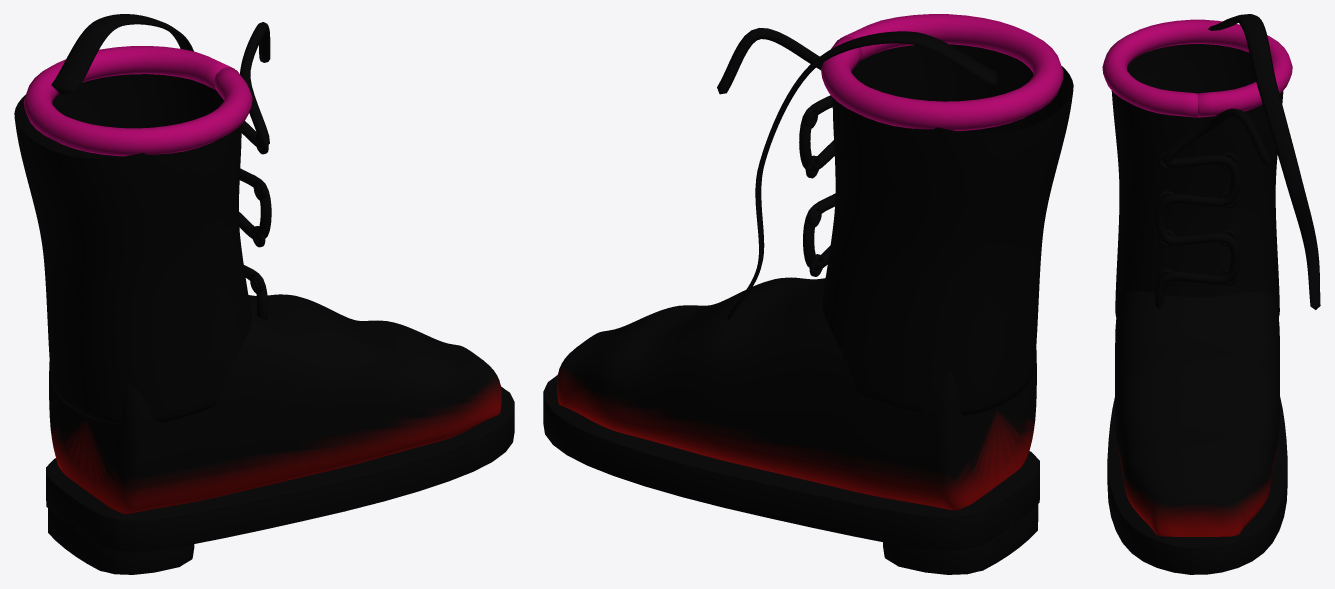
The model's file is boot.glb.
3 renders of one model, left to right at view 1: azimuth 30°, elevation 25°; view 2: azimuth 150°, elevation 25°; view 3: azimuth 270°, elevation 25°, orthographic. The views are drawn at different scales.
Visible parts, largest first — view 1: Boot, BootTrim; view 2: Boot, BootTrim; view 3: Boot, BootTrim.
Boxes of the visible parts, x1,y1,x2,y2 form: Boot: (14, 46, 514, 574); BootTrim: (51, 14, 271, 320); Boot: (543, 14, 1073, 574); BootTrim: (717, 28, 1000, 319); Boot: (1102, 19, 1292, 574); BootTrim: (1154, 14, 1320, 309).
Size of the model in its own units: 1.08 by 1.07 by 0.4993.
